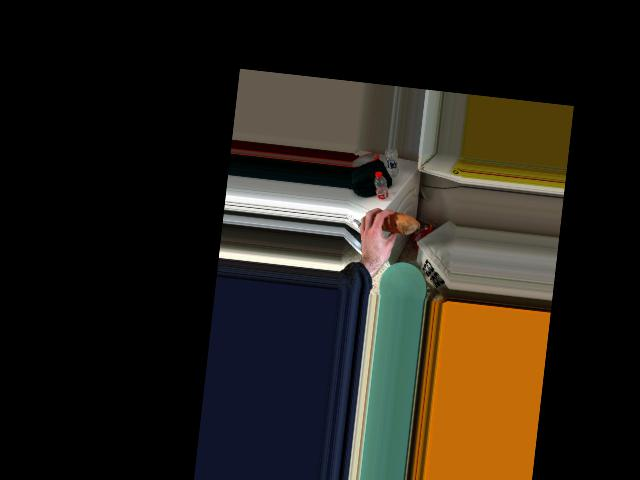sweet_potato: (379, 210, 412, 234)
